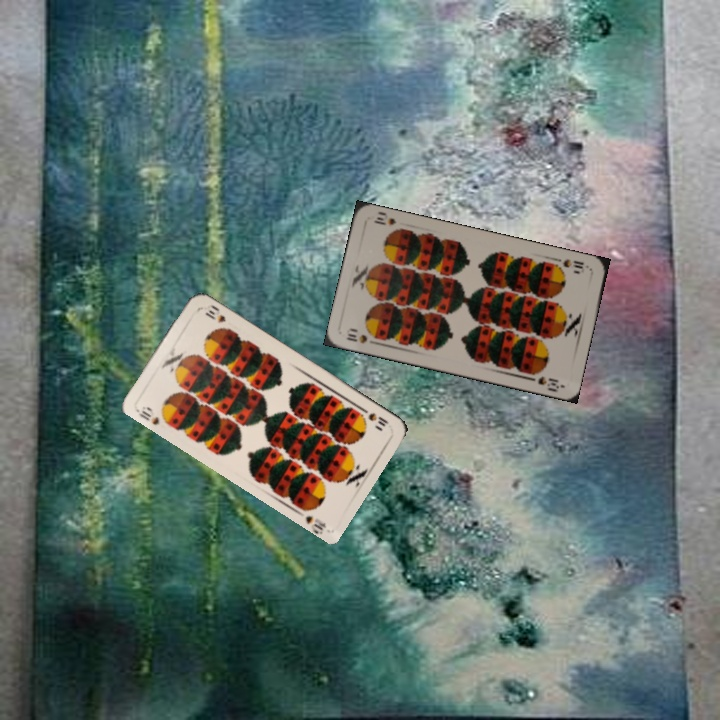S10: (357, 403, 391, 429), (342, 325, 381, 347), (135, 402, 162, 428), (559, 255, 586, 271)
